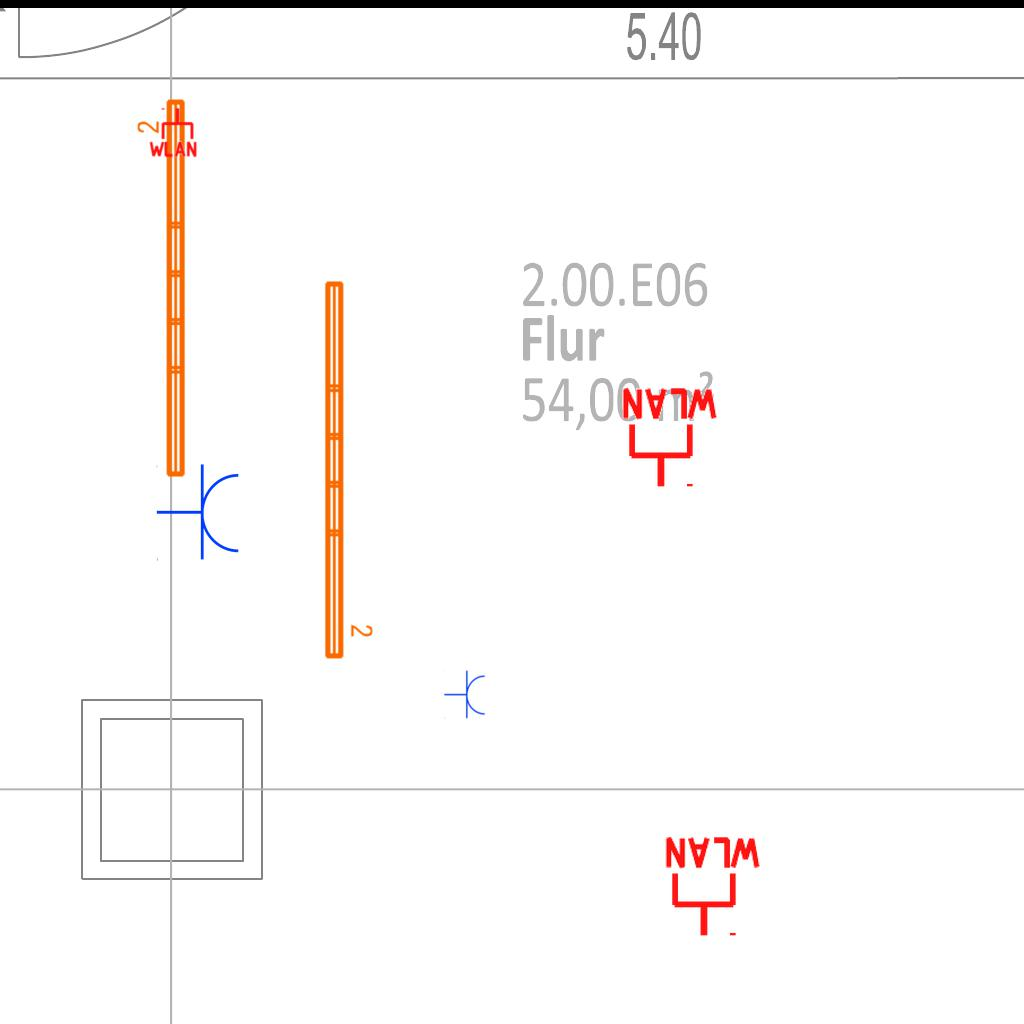Ambulanz_Pendelleuchte_LED: (319, 276, 375, 663), (135, 95, 191, 482)
Schukosteckdose_einfach: (156, 463, 243, 563), (444, 670, 487, 720)
WLAN: (618, 386, 722, 491), (661, 835, 765, 940), (147, 106, 199, 158)
